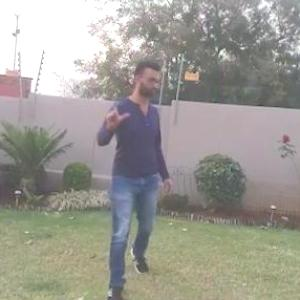land_hand: (102, 90, 132, 126)
